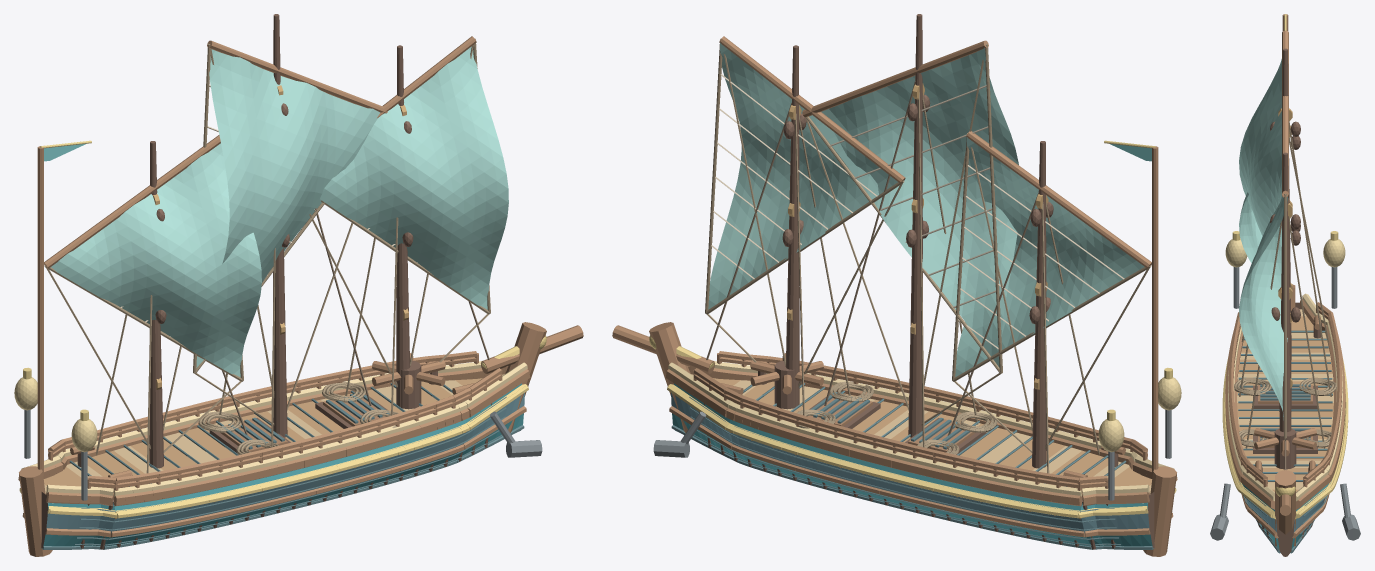
File: lemuria_scout-v5.glb
The picture shows the model from 3 angles, left to right: view 1: azimuth 30°, elevation 25°; view 2: azimuth 150°, elevation 25°; view 3: azimuth 270°, elevation 25°; orthographic projection. The views are drawn at different scales.
Parts seen in each view (by area): view 1: lemuria_scout_sails_mint, lemuria_scout_hull_hull2, lemuria_scout_railings_hull2, lemuria_scout_masts_darkwood, lemuria_scout_hull_ghostdark, lemuria_scout_hull_pale, lemuria_scout_hull_teal, lemuria_scout_hull_blue, lemuria_scout_rigging_rope, lemuria_scout_hull_wood, lemuria_scout_hull_gold, lemuria_scout_rigging_hull2 (+11 smaller); view 2: lemuria_scout_sails_mint, lemuria_scout_hull_hull2, lemuria_scout_masts_darkwood, lemuria_scout_rigging_rope, lemuria_scout_railings_hull2, lemuria_scout_hull_ghostdark, lemuria_scout_hull_pale, lemuria_scout_hull_teal, lemuria_scout_rigging_hull2, lemuria_scout_hull_blue, lemuria_scout_hull_wood, lemuria_scout_hull_gold (+13 smaller); view 3: lemuria_scout_sails_mint, lemuria_scout_hull_hull2, lemuria_scout_hull_wood, lemuria_scout_masts_darkwood, lemuria_scout_railings_hull2, lemuria_scout_hull_ghostdark, lemuria_scout_masts_rope, lemuria_scout_hull_decklight, lemuria_scout_fittings_iron, lemuria_scout_hull_gold, lemuria_scout_fittings_darkwood, lemuria_scout_hull_pale (+11 smaller).
Boxes of the visible parts, x1,y1,x2,y2 form: lemuria_scout_sails_mint: (51,46,508,377); lemuria_scout_hull_hull2: (18,322,583,556); lemuria_scout_railings_hull2: (48,351,502,499); lemuria_scout_masts_darkwood: (149,14,413,468); lemuria_scout_hull_ghostdark: (42,383,524,549); lemuria_scout_hull_pale: (21,361,527,496); lemuria_scout_hull_teal: (43,383,523,546); lemuria_scout_hull_blue: (41,393,524,548); lemuria_scout_rigging_rope: (44,38,490,452); lemuria_scout_hull_wood: (43,378,482,487); lemuria_scout_hull_gold: (19,384,528,518); lemuria_scout_rigging_hull2: (44,36,476,268); lemuria_scout_sails_mint: (708,43,1144,376); lemuria_scout_hull_hull2: (612,322,1177,556); lemuria_scout_masts_darkwood: (782,14,1053,468); lemuria_scout_rigging_rope: (705,38,1151,452); lemuria_scout_railings_hull2: (693,351,1147,499); lemuria_scout_hull_ghostdark: (671,383,1153,549); lemuria_scout_hull_pale: (668,361,1174,496); lemuria_scout_hull_teal: (672,383,1152,546); lemuria_scout_rigging_hull2: (719,36,1151,268); lemuria_scout_hull_blue: (671,392,1154,548); lemuria_scout_hull_wood: (713,378,1152,487); lemuria_scout_hull_gold: (667,384,1176,518); lemuria_scout_sails_mint: (1239,59,1287,420); lemuria_scout_hull_hull2: (1225,284,1345,546); lemuria_scout_hull_wood: (1237,316,1333,491); lemuria_scout_masts_darkwood: (1270,48,1300,431); lemuria_scout_railings_hull2: (1228,302,1342,487); lemuria_scout_hull_ghostdark: (1238,330,1332,553); lemuria_scout_masts_rope: (1239,121,1331,448); lemuria_scout_hull_decklight: (1237,309,1333,489); lemuria_scout_fittings_iron: (1210,267,1360,540); lemuria_scout_hull_gold: (1222,357,1348,519); lemuria_scout_fittings_darkwood: (1253,322,1321,472); lemuria_scout_hull_pale: (1228,293,1342,501).
Bounding box in the file's own units: 46.71 × 38.48 × 12.73.
